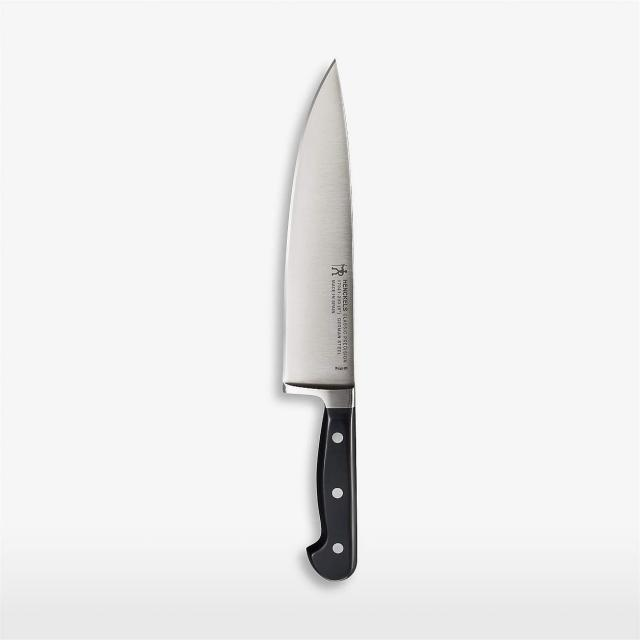Knife: (275, 50, 368, 584)
